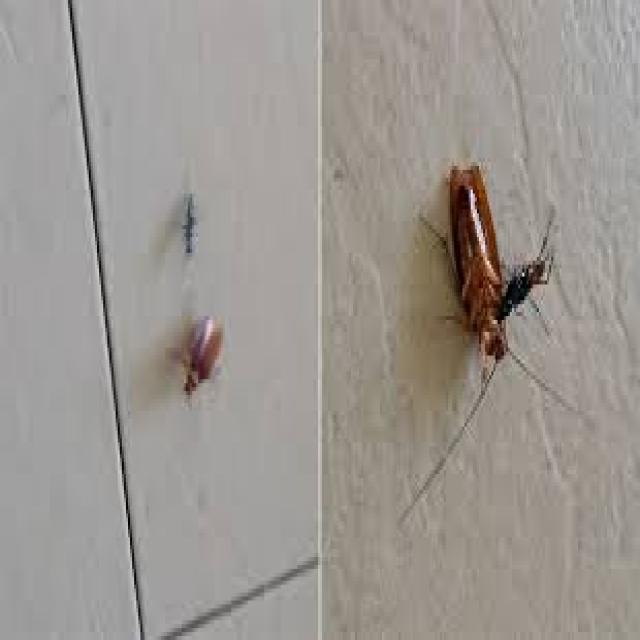Cockroach: (413, 146, 555, 435)
